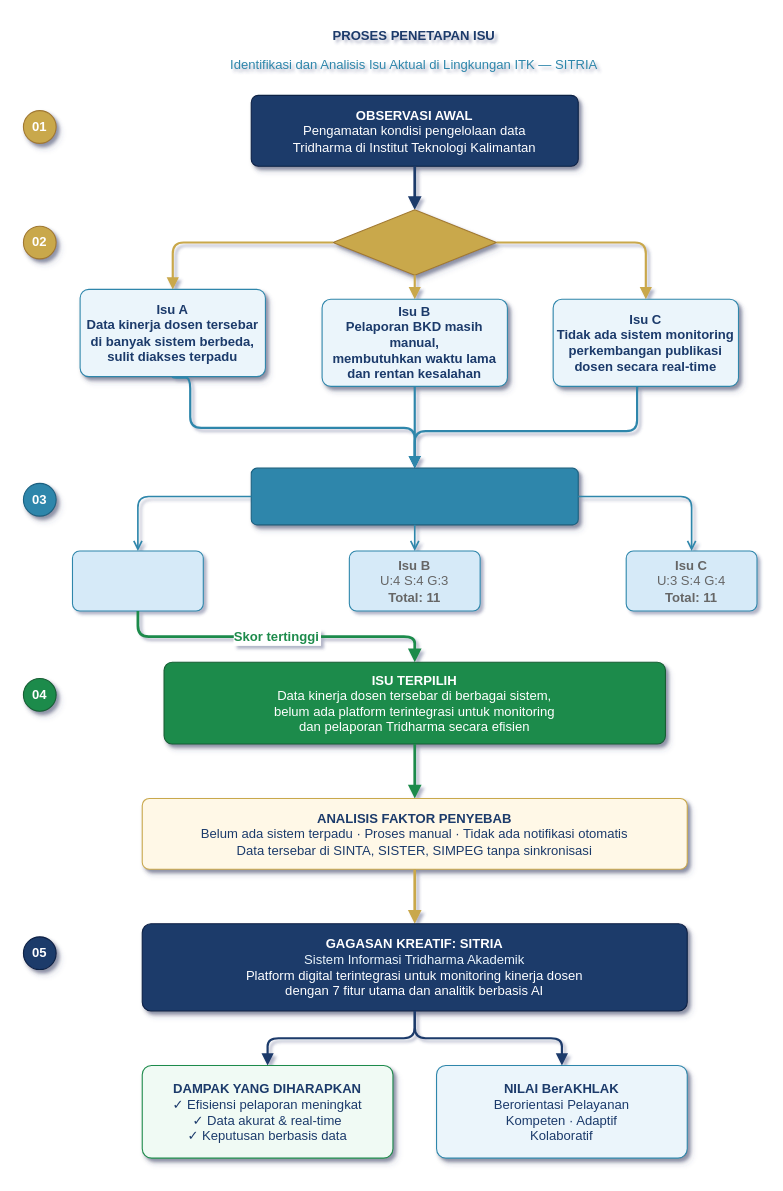
Image size: 783x1191. Some labels were removed from this diagram. Each missing label, with the centre of its shape:
3 Isu Teridentifikasi: the point at 415,243
ANALISIS USG Urgency · Seriousness · Growth: the point at 415,497
Isu A U:5 S:5 G:4 Total: 14 ✓: the point at 137,580
